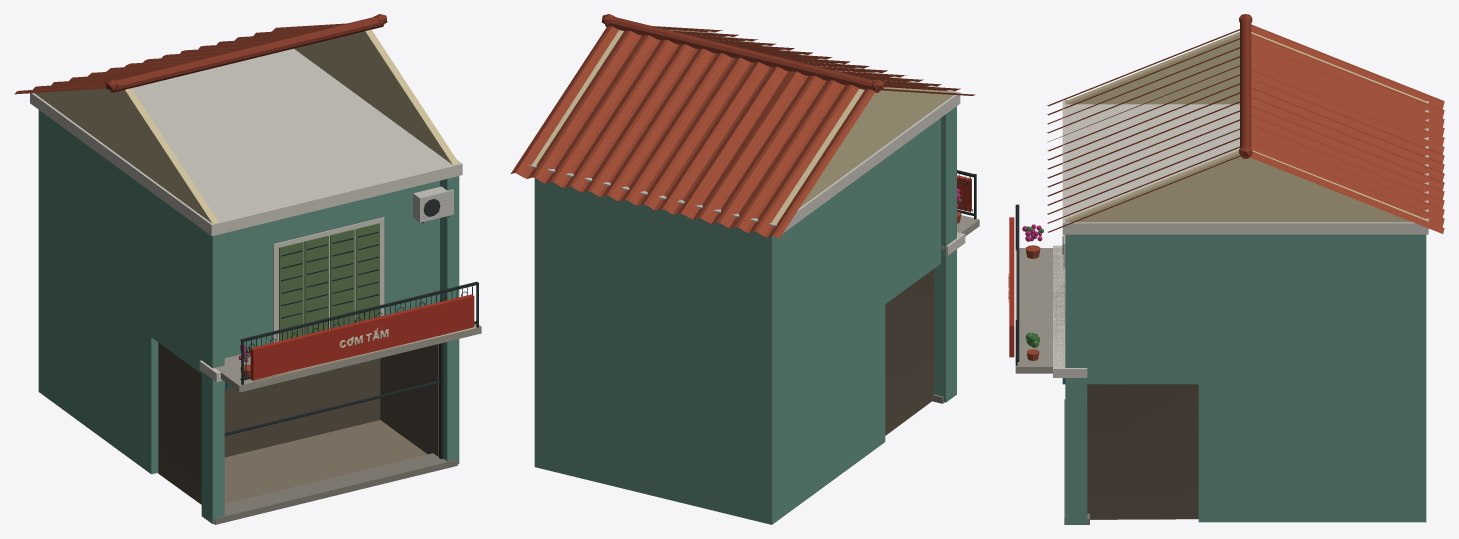
File: nha_H.glb
The picture shows the model from 3 angles, left to right: view 1: azimuth 30°, elevation 25°; view 2: azimuth 150°, elevation 25°; view 3: azimuth 270°, elevation 25°; orthographic projection.
Parts seen in each view (by area): view 1: nha_H; view 2: nha_H; view 3: nha_H.
Boxes of the visible parts, bbox=[...] form: nha_H: bbox=[14, 14, 481, 524]; nha_H: bbox=[511, 14, 979, 524]; nha_H: bbox=[1008, 14, 1444, 524].
Bounding box in the file's own units: 6.59 × 8.6 × 8.82.
